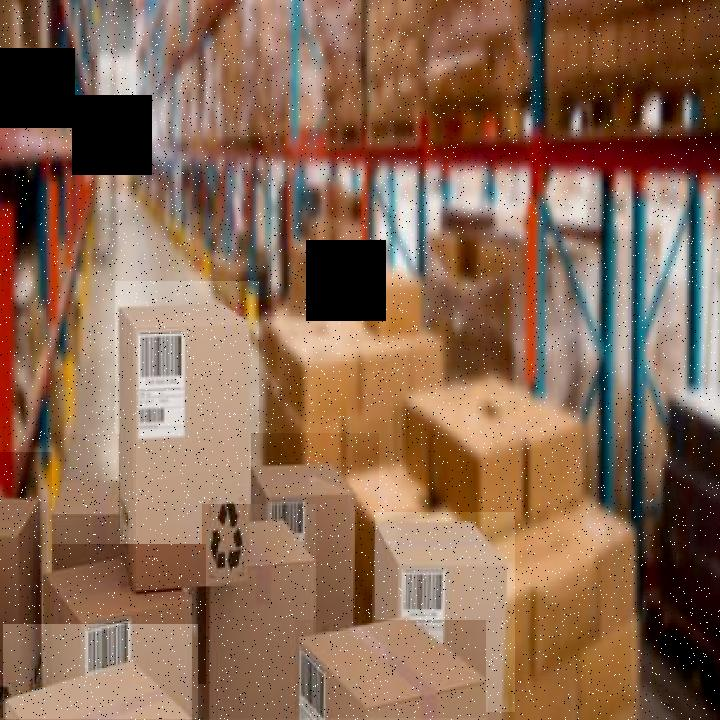box: (115, 281, 259, 605), (375, 512, 515, 712), (202, 504, 316, 718), (251, 433, 379, 623), (36, 544, 206, 684), (295, 620, 486, 718), (3, 624, 198, 719), (0, 452, 52, 718), (50, 434, 120, 564)
